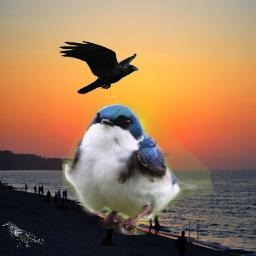Crow: (58, 40, 140, 94), (3, 222, 45, 248)
Swallow: (62, 103, 213, 235)
